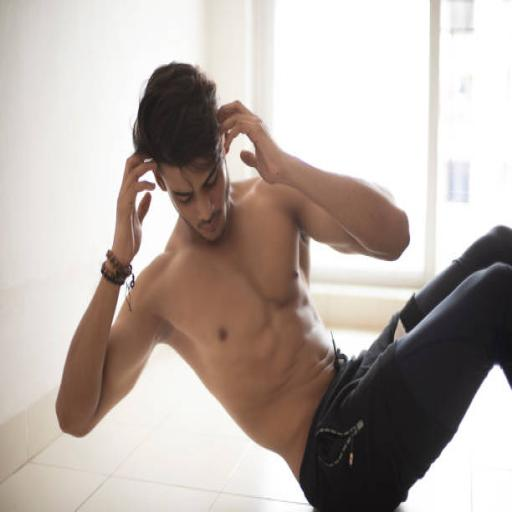Person: (55, 113, 488, 415)
no_gloves: (211, 153, 292, 221), (120, 182, 160, 272)
no_goggle: (172, 202, 230, 227)
no_helmet: (129, 116, 234, 220)
none: (146, 203, 370, 393)
